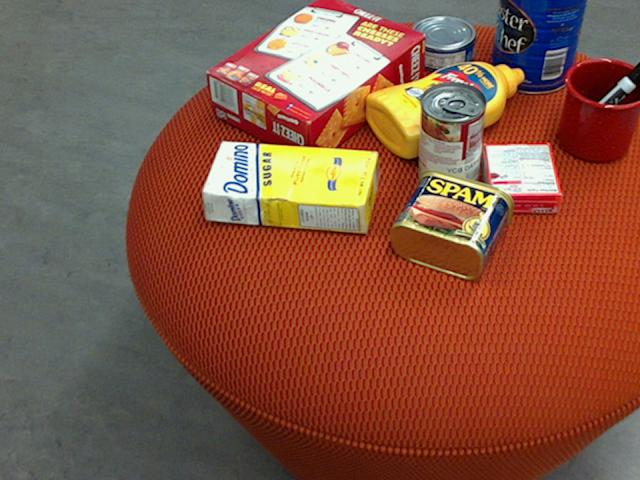cracker_box: (204, 0, 425, 164)
gelatin_box: (483, 144, 562, 213)
large_marker: (562, 59, 639, 143)
master_chef_can: (489, 0, 587, 92)
mug: (558, 57, 639, 161)
mustard_bottle: (365, 62, 524, 157)
potted_meat_can: (389, 167, 512, 278)
sugar_box: (199, 140, 377, 233)
tomato_soup_can: (418, 79, 484, 194)
tuna_fish_can: (408, 16, 475, 70)
